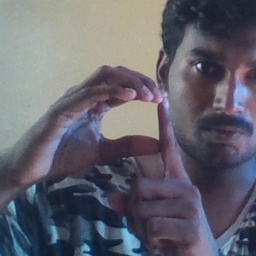P: (50, 61, 208, 242)
